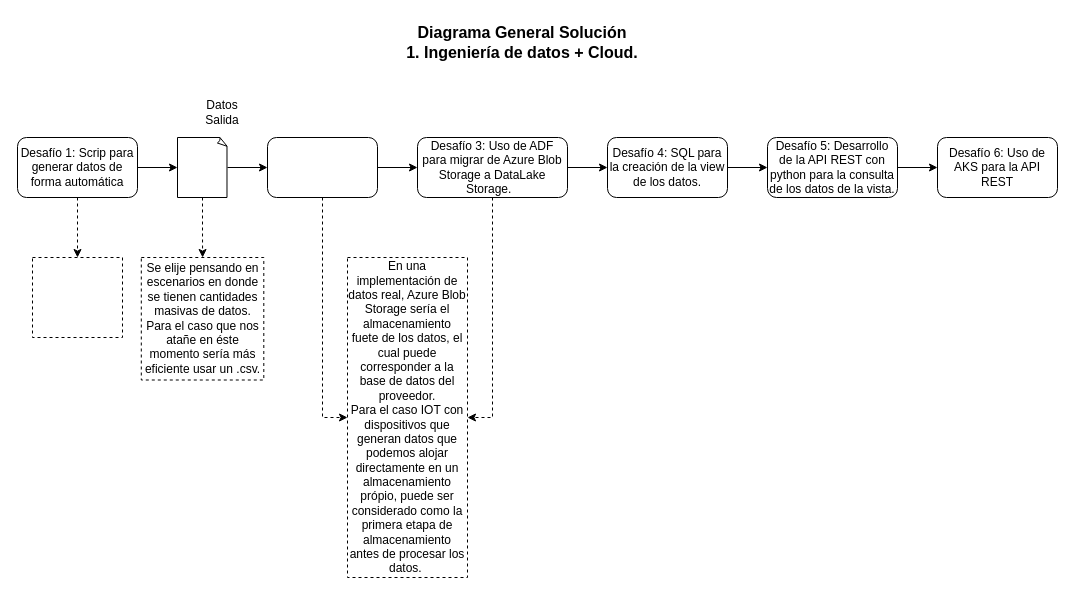
The diagram is 1075 pixels wide and 595 high, and some of its shapes have lost their labels. The shapes that lost their labels are listed below. From the top down, each one's centre as x and y in pixels, then its label:
At (x=202, y=167): ".parquet".
At (x=322, y=167): "Desafío 2: Almacenamiento en Azure Blob Storage.".
At (x=77, y=297): "Alojado en maquina local para simular el envío de datos a la nube.".
